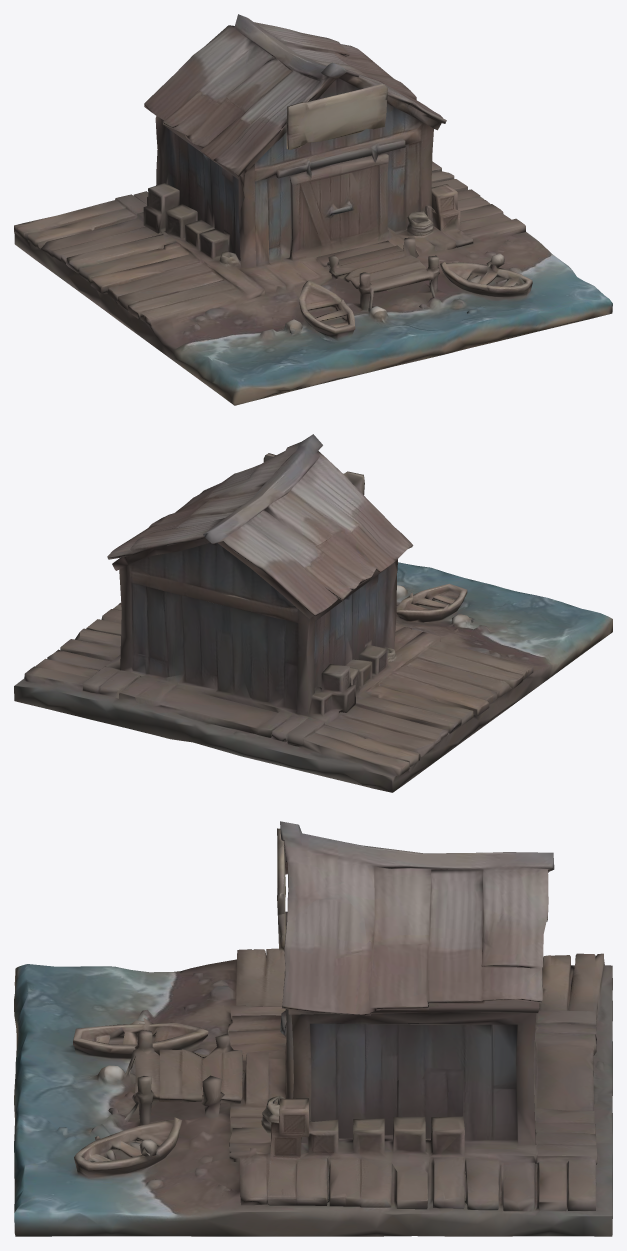
The model's file is waterfront_main.glb.
3 views of the same model, one above another, from view 1: azimuth 30°, elevation 25°; view 2: azimuth 150°, elevation 25°; view 3: azimuth 270°, elevation 25° (orthographic). The views are drawn at different scales.
Parts seen in each view (by area): view 1: tripo_node_407733ae-cd4b-435d-9413-003937b2a946; view 2: tripo_node_407733ae-cd4b-435d-9413-003937b2a946; view 3: tripo_node_407733ae-cd4b-435d-9413-003937b2a946.
Boxes of the visible parts, x1,y1,x2,y2 form: tripo_node_407733ae-cd4b-435d-9413-003937b2a946: [14, 14, 612, 405]; tripo_node_407733ae-cd4b-435d-9413-003937b2a946: [14, 434, 612, 792]; tripo_node_407733ae-cd4b-435d-9413-003937b2a946: [14, 821, 612, 1236].
Size of the model in its own units: 1 by 0.5495 by 0.9973.
1 material, 1 textured.
